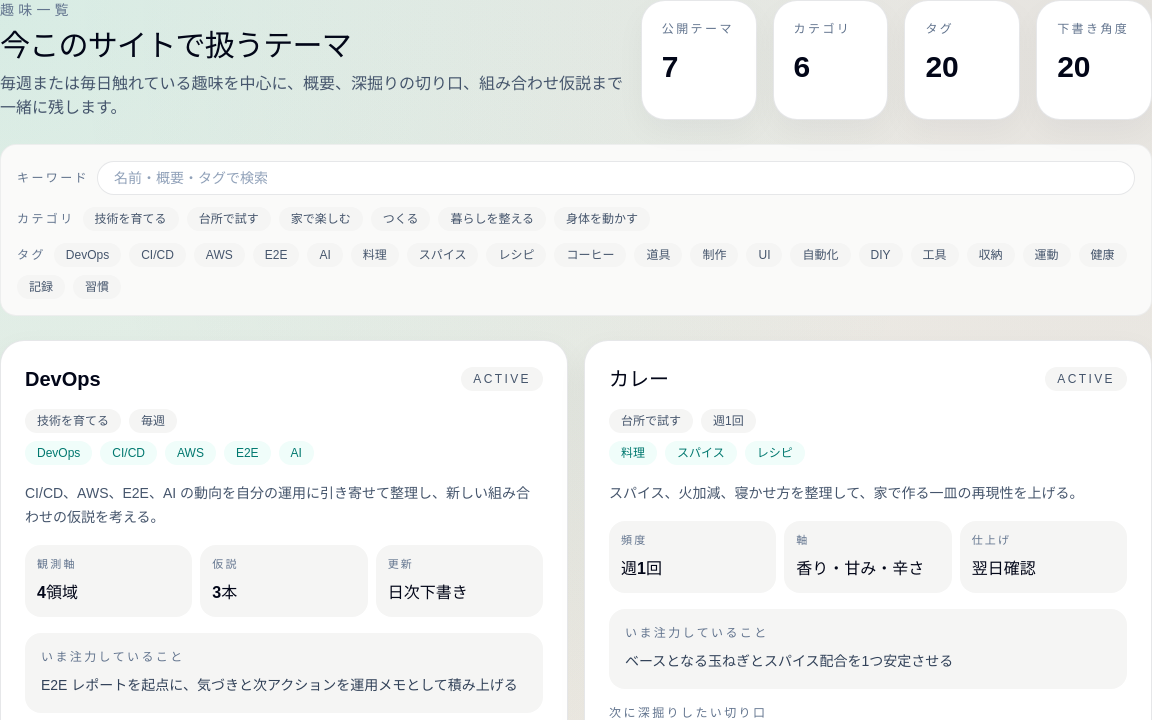
Test: HobbiesPage › タグボタンをクリックすると該当する趣味だけ残る
Click the button "コーヒー": (590, 255) [554,243,626,267]
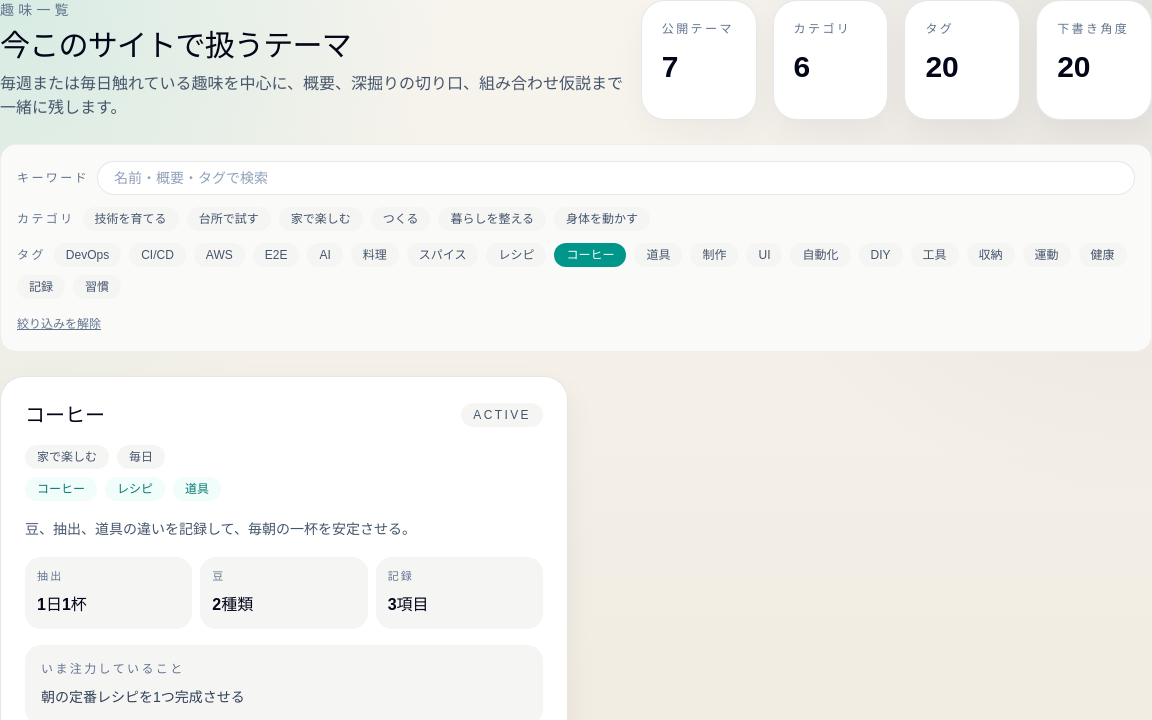
Expected: the heading "コーヒー" is shown, [25,401,105,429]
Expected: the heading "カレー" is gone
